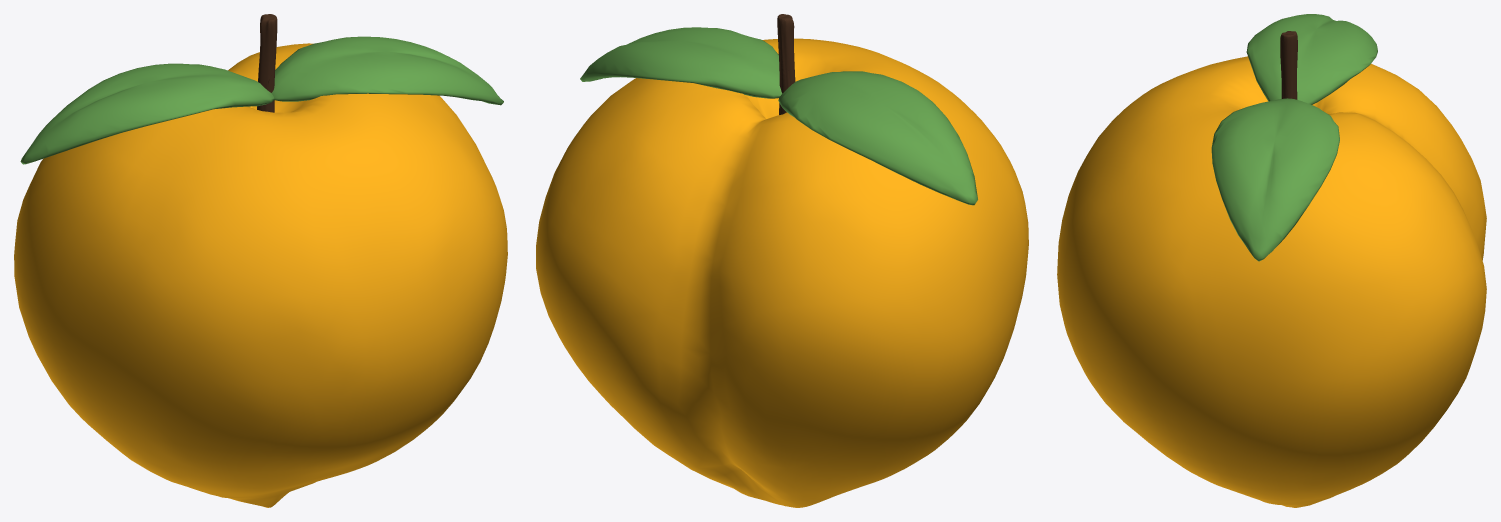
File: ToyObject_233.fbx
3 views of the same model, side by side, from view 1: azimuth 30°, elevation 25°; view 2: azimuth 150°, elevation 25°; view 3: azimuth 270°, elevation 25° (orthographic). The views are drawn at different scales.
Visible parts, largest first — view 1: Object.093; view 2: Object.093; view 3: Object.093.
Boxes of the visible parts, left/top/right/bottom form: Object.093: left=14, top=14, right=507, bottom=507; Object.093: left=536, top=14, right=1028, bottom=507; Object.093: left=1057, top=14, right=1486, bottom=507.
Size of the model in its own units: 0.1408 by 0.1499 by 0.1229.
